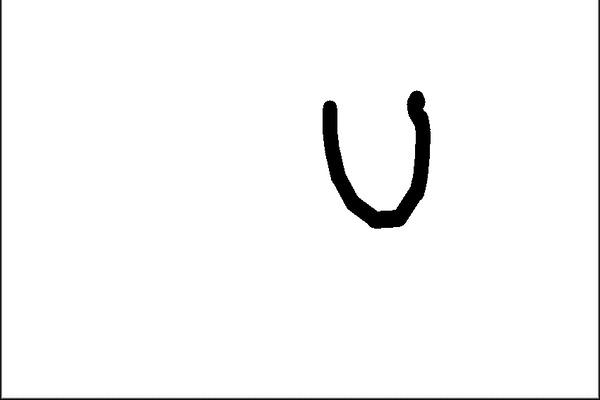U: (298, 72, 440, 230)
